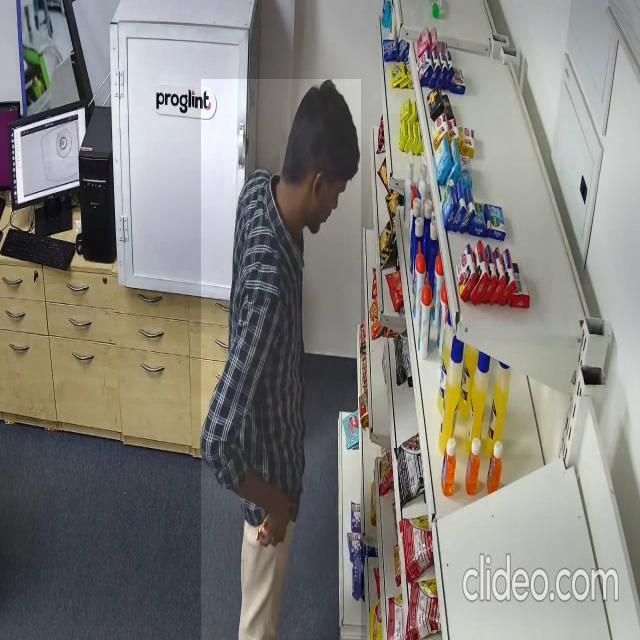Shoplifting: (201, 79, 361, 640)
